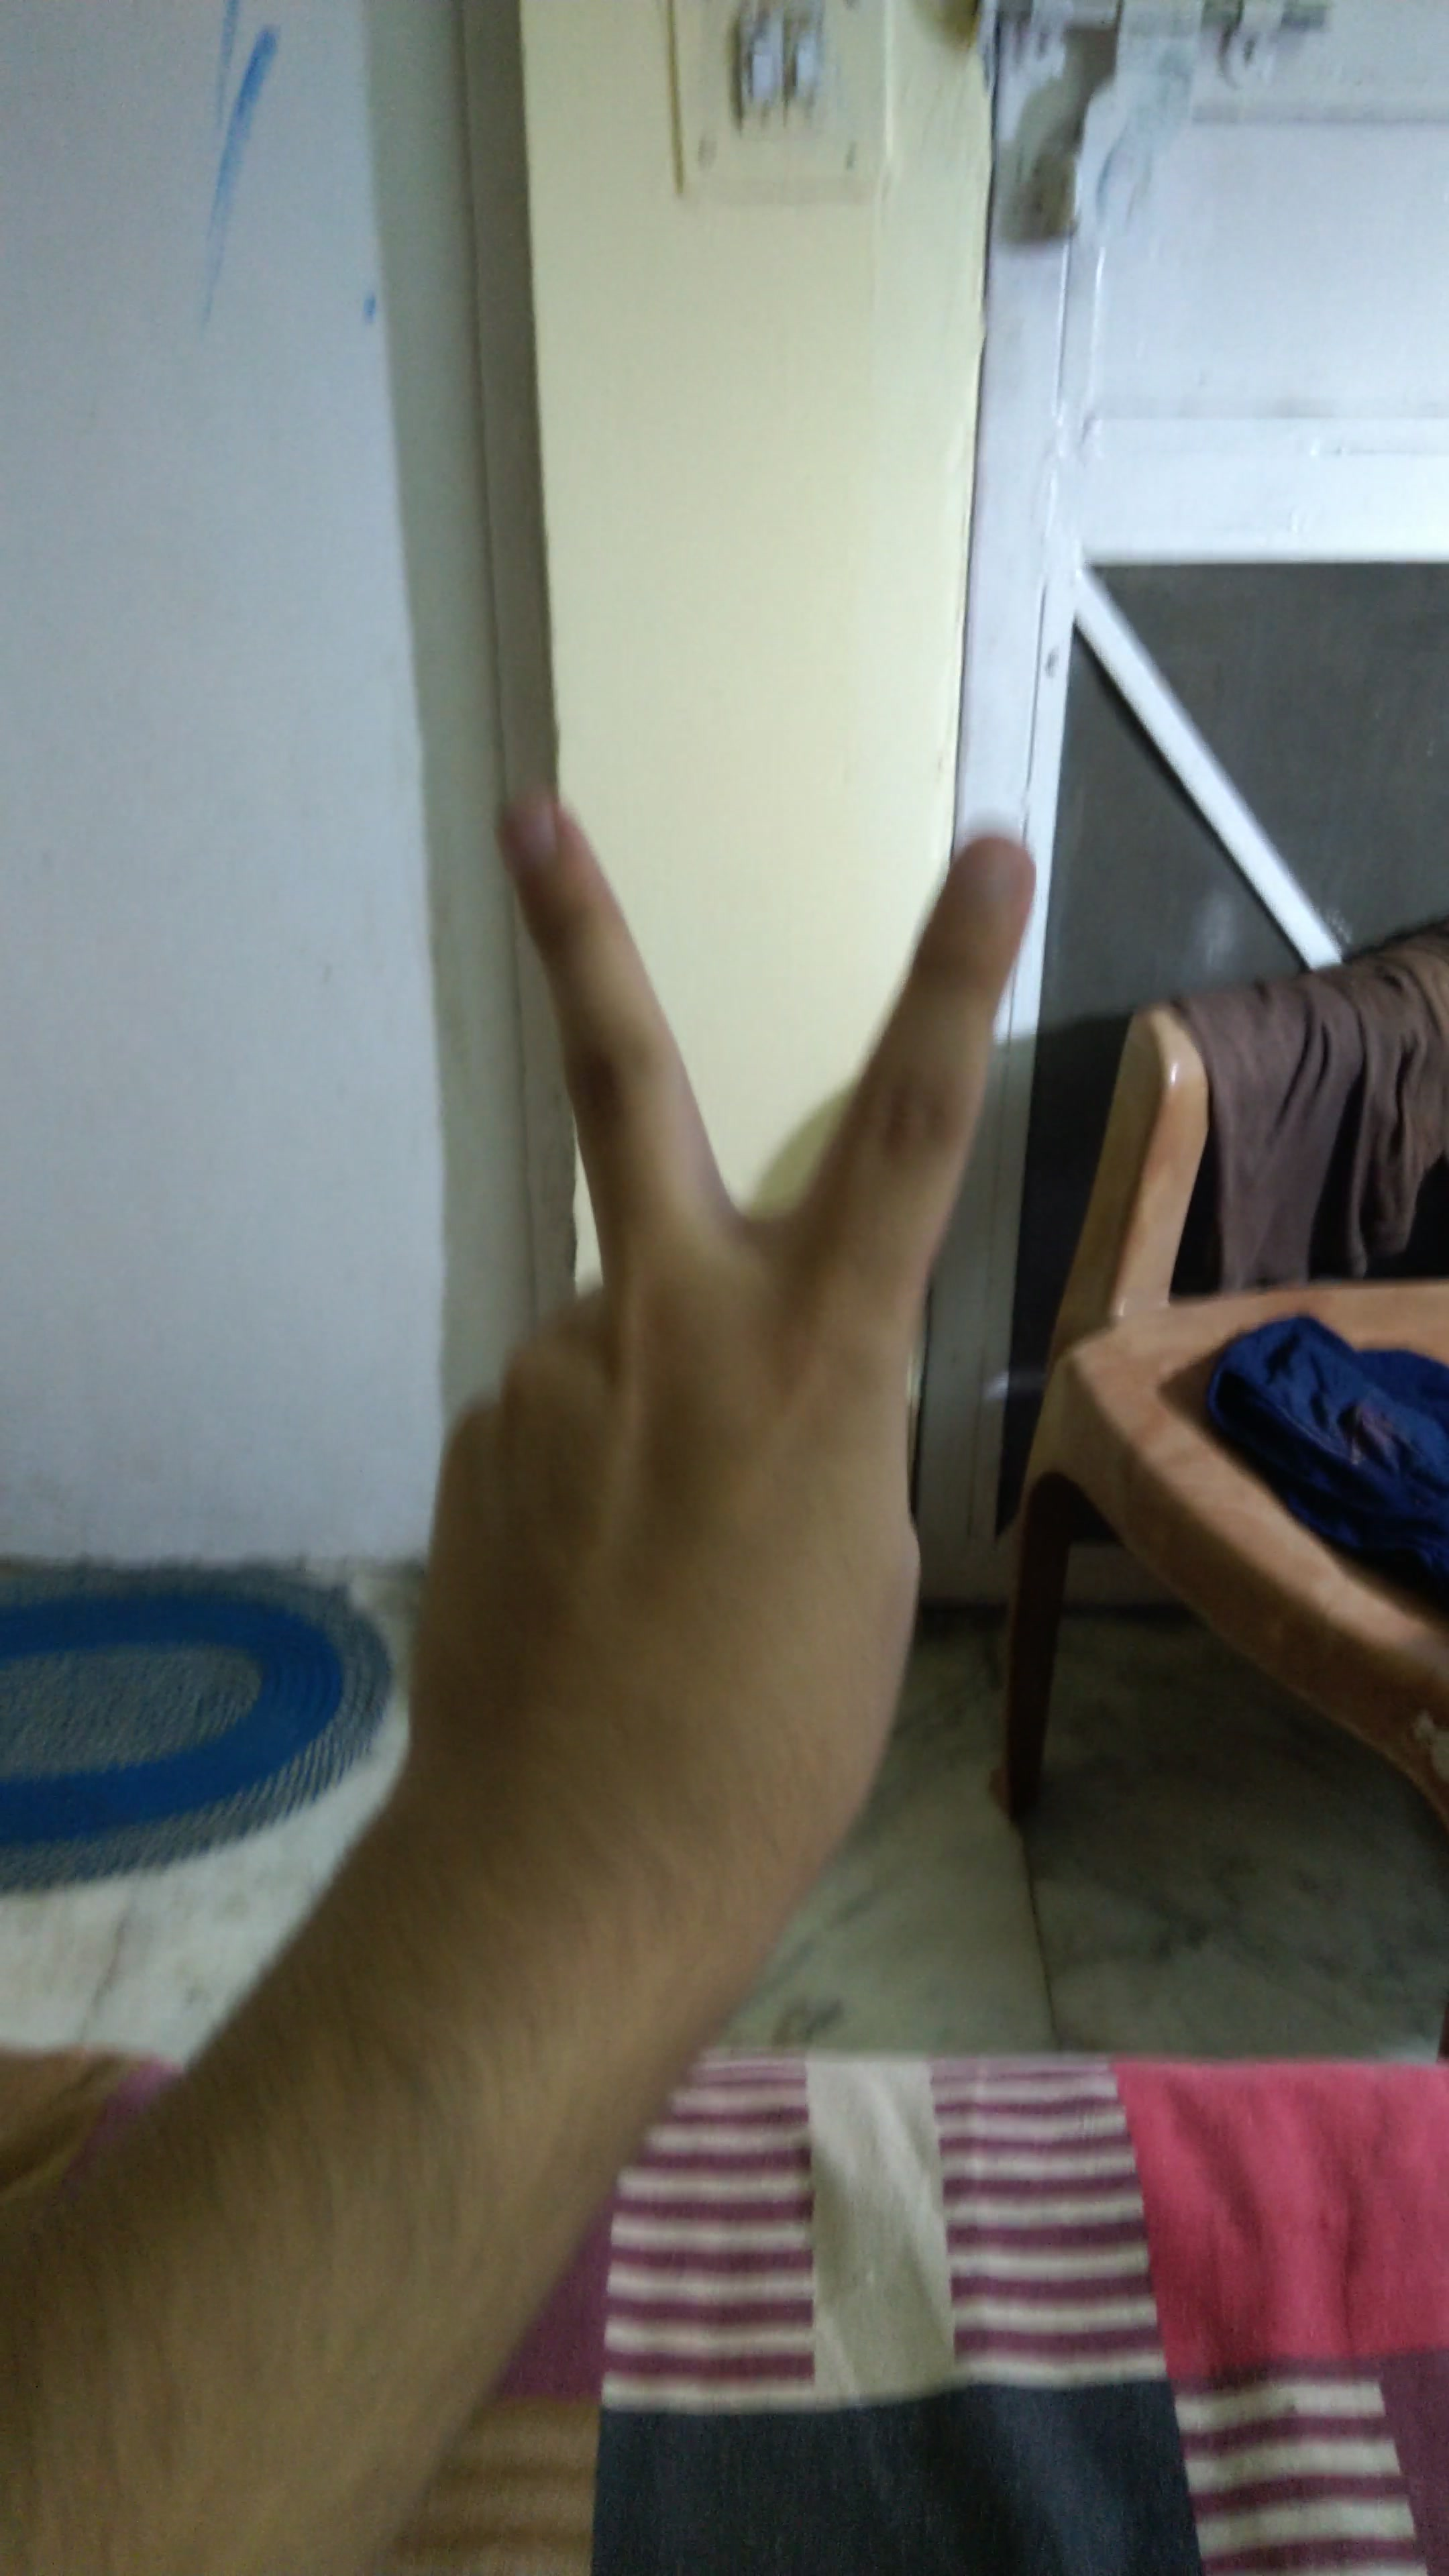hand: (334, 748, 1069, 2051)
